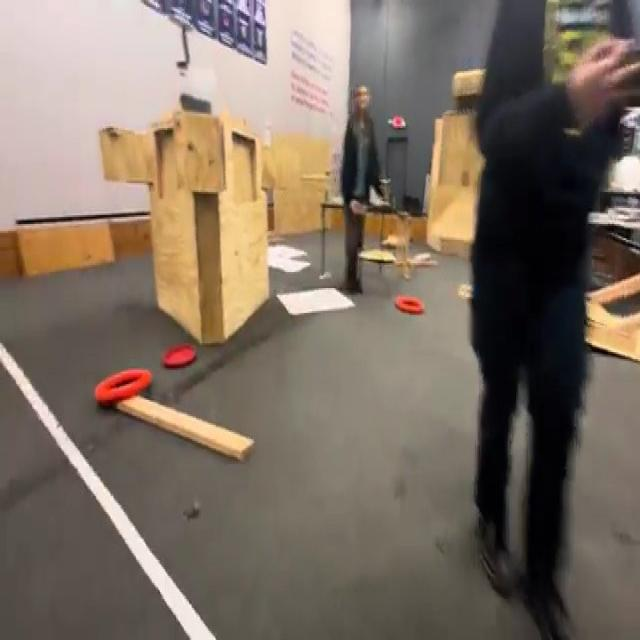note: (92, 367, 152, 408), (395, 296, 424, 317)
